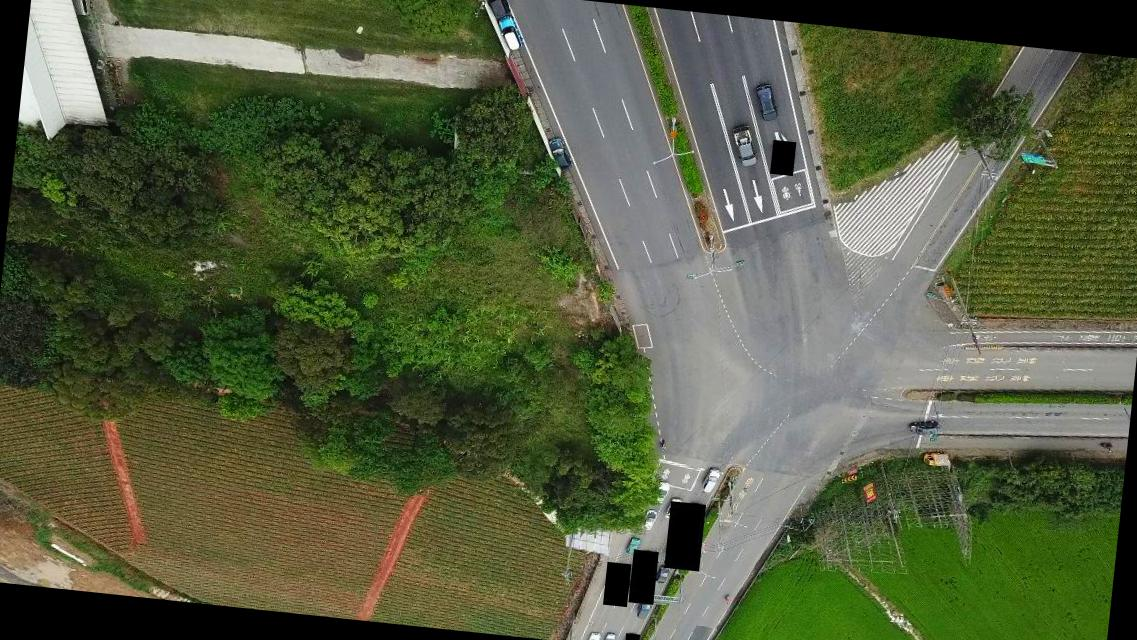vehicle: (727, 123, 761, 170), (494, 15, 526, 54), (750, 84, 780, 124), (544, 134, 574, 172), (906, 417, 940, 436), (481, 0, 510, 19), (702, 466, 720, 494), (634, 596, 653, 622), (921, 450, 947, 468), (653, 563, 672, 587), (665, 496, 681, 522), (654, 480, 670, 504), (642, 510, 657, 531), (626, 536, 640, 556), (588, 629, 601, 639), (604, 631, 615, 639)
